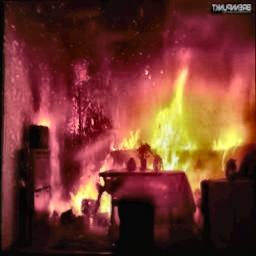fire: (51, 36, 251, 212)
